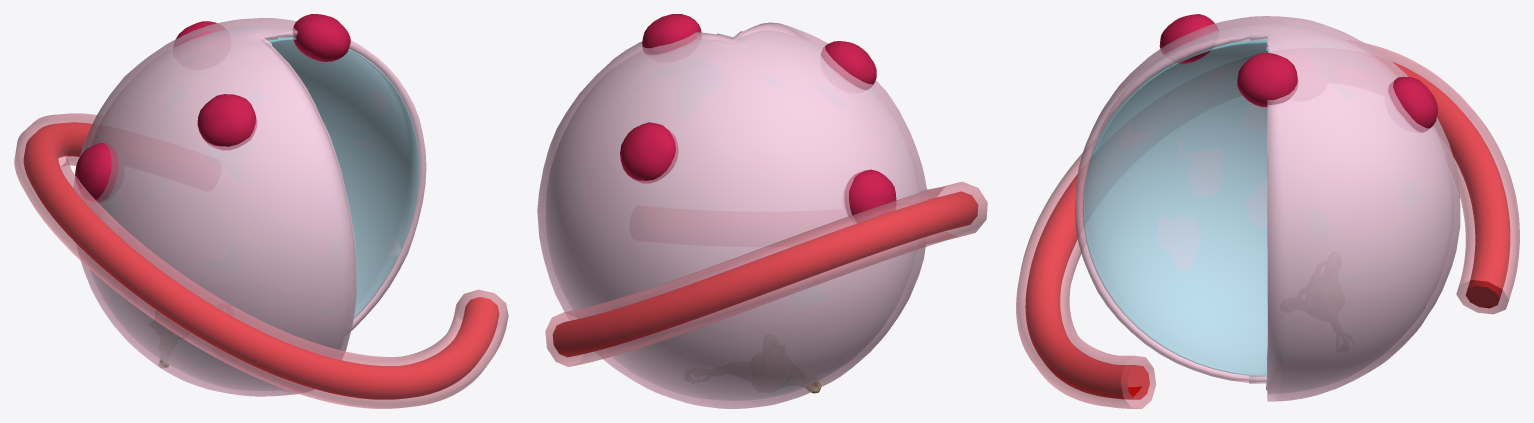
File: alveolus.glb
3 views of the same model, side by side, from view 1: azimuth 30°, elevation 25°; view 2: azimuth 150°, elevation 25°; view 3: azimuth 270°, elevation 25° (orthographic). The views are drawn at different scales.
Parts seen in each view (by area): view 1: cz-type1, cz-endothelial, cz-capillary, cz-surfactant, cz-type2; view 2: cz-type1, cz-endothelial, cz-capillary, cz-type2, cz-surfactant; view 3: cz-type1, cz-surfactant, cz-endothelial, cz-capillary, cz-type2.
Boxes of the visible parts, x1,y1,x2,y2 form: cz-type1: (73,18,426,396); cz-endothelial: (14,113,508,408); cz-capillary: (23,122,499,399); cz-surfactant: (105,26,419,368); cz-type2: (75,14,350,202); cz-type1: (537,22,927,408); cz-endothelial: (545,181,987,366); cz-capillary: (552,191,978,357); cz-type2: (620,14,896,222); cz-surfactant: (566,41,915,397); cz-type1: (1075,16,1460,401); cz-surfactant: (1082,26,1435,383); cz-endothelial: (1016,43,1519,408); cz-capillary: (1025,62,1510,399); cz-type2: (1159,14,1437,132).
Bounding box in the file's own units: 14.25 × 12.16 × 15.68.
6 materials, 1 textured.
